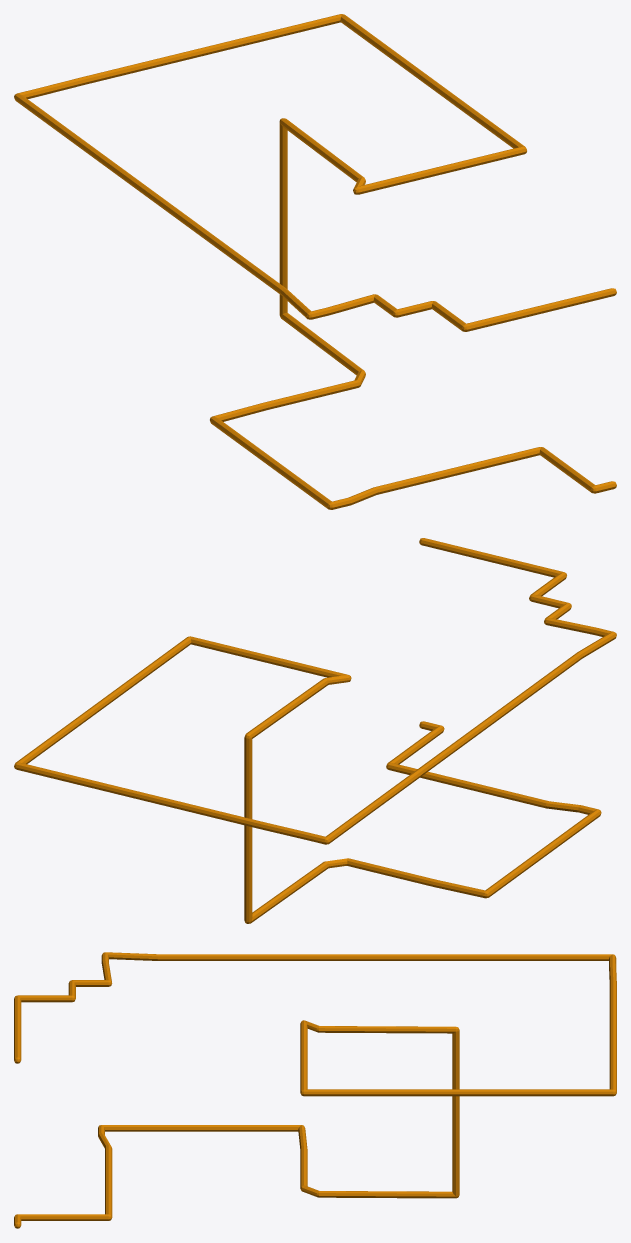
The picture shows the model from 3 angles, top to bottom: view 1: azimuth 30°, elevation 25°; view 2: azimuth 150°, elevation 25°; view 3: azimuth 270°, elevation 25°; orthographic projection. The views are drawn at different scales.
Bounding box in the file's own units: 912 × 520 × 1657.
